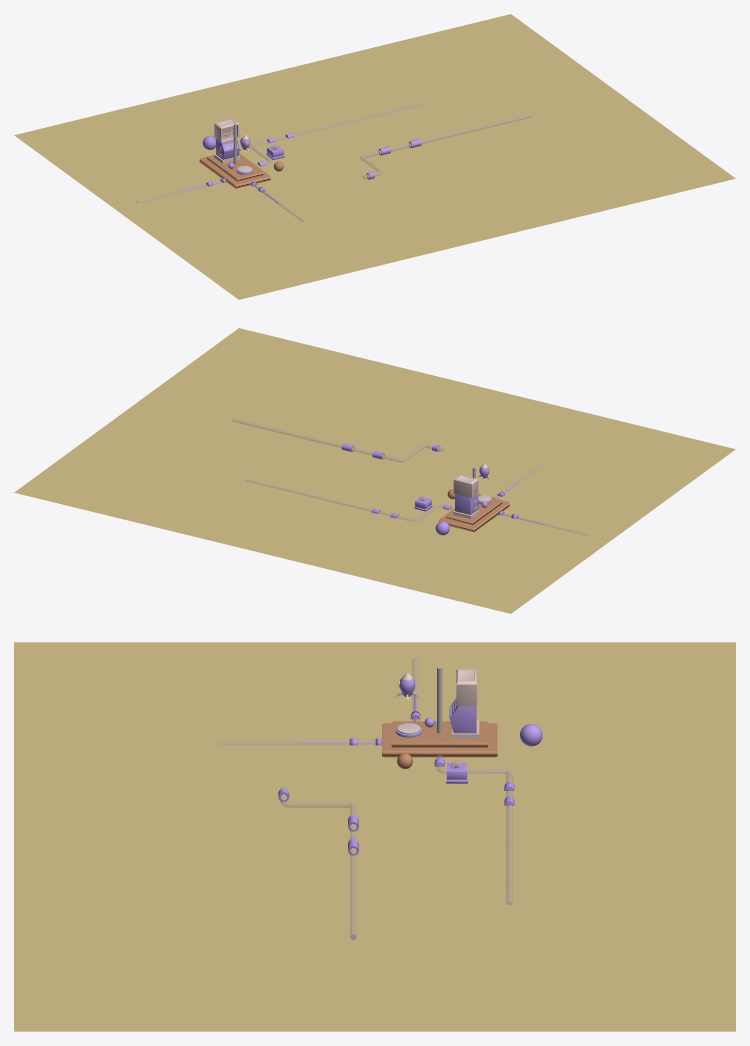
The model's file is 7yue 4ri.glb.
3 renders of one model, top to bottom at view 1: azimuth 30°, elevation 25°; view 2: azimuth 150°, elevation 25°; view 3: azimuth 270°, elevation 25°, orthographic. The views are drawn at different scales.
Visible parts, largest first — view 1: Plane001, Teapot001, Box002, Box001, Line001; view 2: Plane001, Teapot001, Line001, Box001, Box002, Box005; view 3: Plane001, Box002, Box001, Teapot001, Line001, Box005, Box004, Cylinder009.
Part boxes in pixels (<box>): Plane001: <box>14,14,735,299</box>; Teapot001: <box>360,114,530,179</box>; Box002: <box>207,154,263,181</box>; Box001: <box>199,153,270,188</box>; Line001: <box>250,103,420,166</box>; Plane001: <box>14,328,735,613</box>; Teapot001: <box>232,418,443,462</box>; Line001: <box>246,479,453,521</box>; Box001: <box>439,500,509,532</box>; Box002: <box>446,494,502,525</box>; Box005: <box>453,475,478,497</box>; Plane001: <box>14,642,735,1031</box>; Box002: <box>391,721,487,747</box>; Box001: <box>382,723,497,757</box>; Teapot001: <box>278,787,358,939</box>; Line001: <box>436,754,512,904</box>; Box005: <box>456,669,476,706</box>; Box004: <box>449,698,476,733</box>; Cylinder009: <box>219,740,375,744</box>.
Size of what is drawn, in the model's own units: 10.78 by 1.04 by 8.45.
